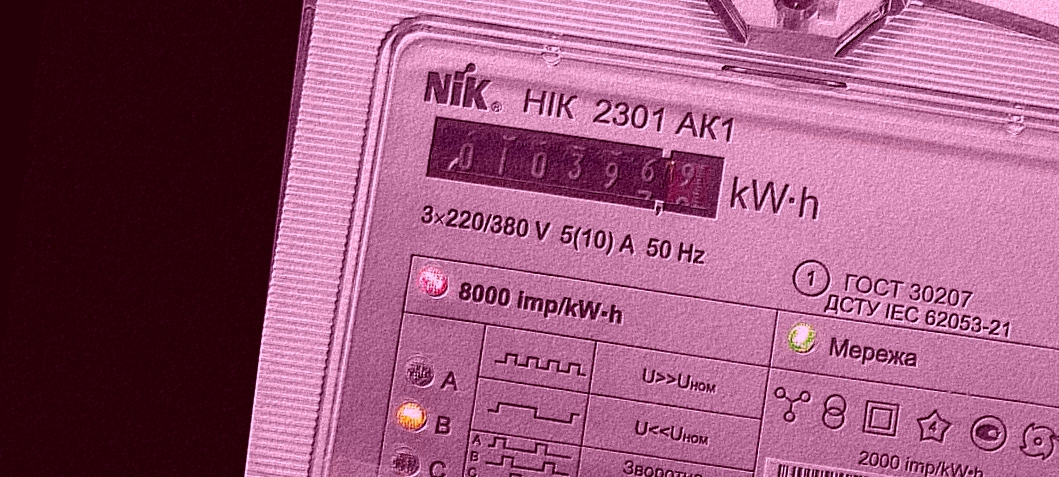0: (526, 146, 552, 182), (454, 137, 478, 172)
1: (494, 142, 511, 177)
3: (565, 149, 587, 184)
6: (636, 154, 661, 185)
9: (598, 157, 622, 192), (674, 159, 698, 192)
screen: (409, 101, 737, 234)
